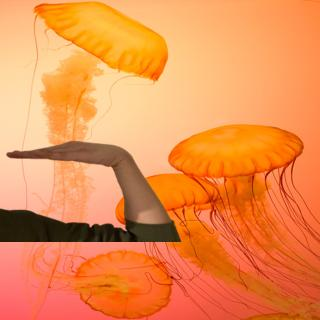WAIT: (1, 134, 125, 171)
